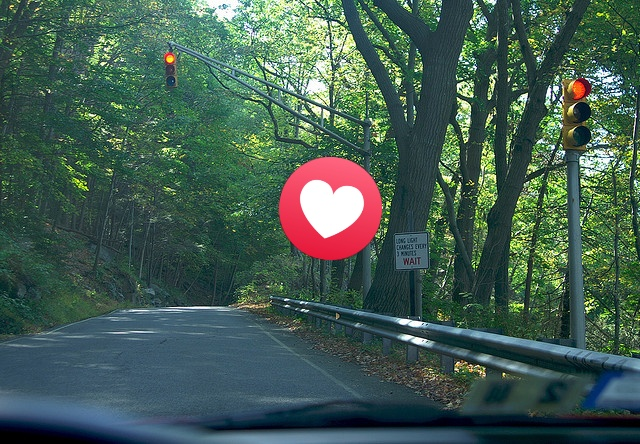love: (279, 157, 382, 260)
